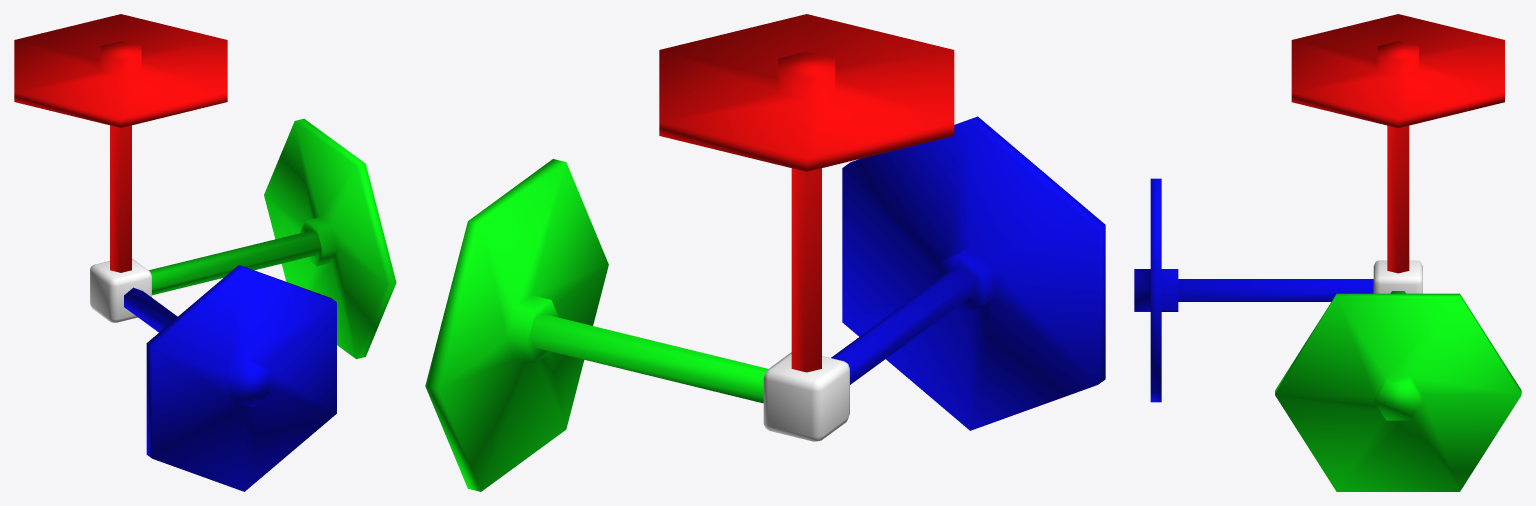
Rendered from RotateArrows.fbx.
3 views of the same model, side by side, from view 1: azimuth 30°, elevation 25°; view 2: azimuth 150°, elevation 25°; view 3: azimuth 270°, elevation 25° (orthographic). The views are drawn at different scales.
Parts seen in each view (by area): view 1: Arrow3, Arrow1, Arrow2, Box; view 2: Arrow3, Arrow2, Arrow1, Box; view 3: Arrow2, Arrow1, Arrow3, Box.
Boxes of the visible parts, x1,y1,x2,y2 form: Arrow3: (124, 265, 336, 491); Arrow1: (14, 14, 227, 272); Arrow2: (149, 118, 396, 359); Box: (90, 258, 151, 322); Arrow3: (831, 116, 1105, 430); Arrow2: (425, 159, 767, 491); Arrow1: (659, 14, 954, 372); Box: (763, 352, 849, 441); Arrow2: (1275, 291, 1521, 491); Arrow1: (1291, 14, 1504, 273); Arrow3: (1134, 178, 1373, 402); Box: (1373, 260, 1422, 293).
Size of the model in its own units: 307 by 307 by 307.
